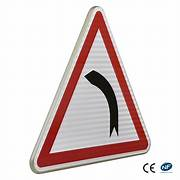left: (30, 5, 153, 175)
